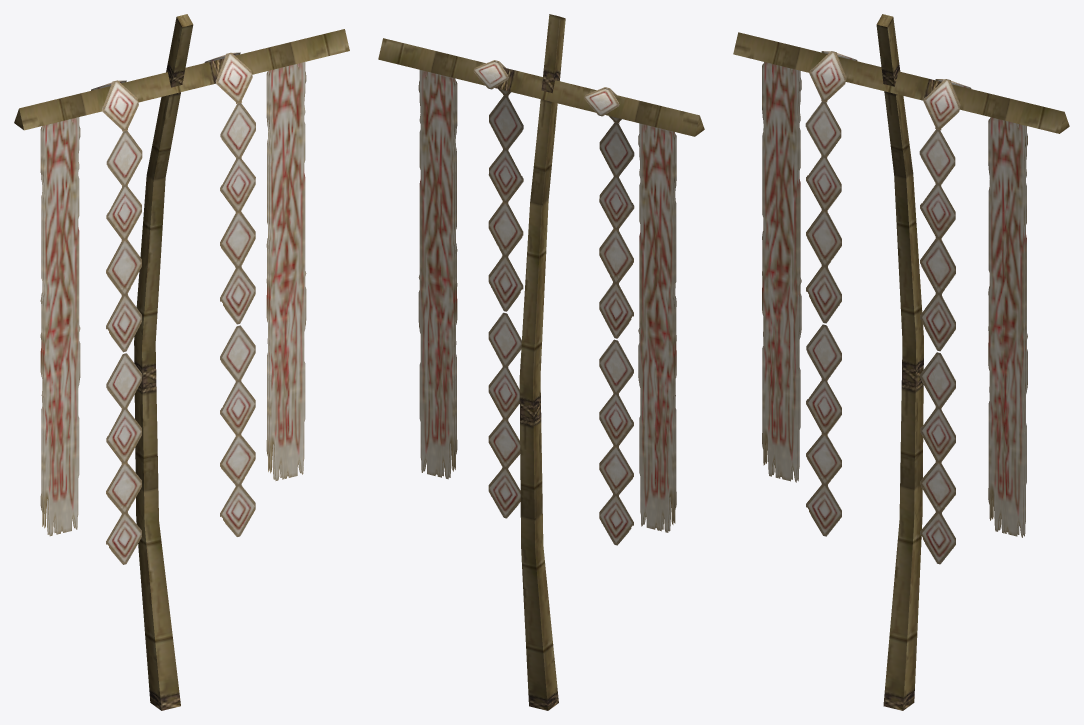
The model's file is zhaohunfan_fd_61.FBX.
3 renders of one model, left to right at view 1: azimuth 30°, elevation 25°; view 2: azimuth 150°, elevation 25°; view 3: azimuth 330°, elevation 25°, orthographic. The views are drawn at different scales.
Parts seen in each view (by area): view 1: zhaohunfan_fd_61; view 2: zhaohunfan_fd_61; view 3: zhaohunfan_fd_61.
Boxes of the visible parts, x1=… form: zhaohunfan_fd_61: x1=14, y1=14, x2=349, y2=710; zhaohunfan_fd_61: x1=378, y1=14, x2=704, y2=710; zhaohunfan_fd_61: x1=733, y1=14, x2=1069, y2=710.
Size of what is drawn, in the model's own units: 133 by 272 by 29.02.
